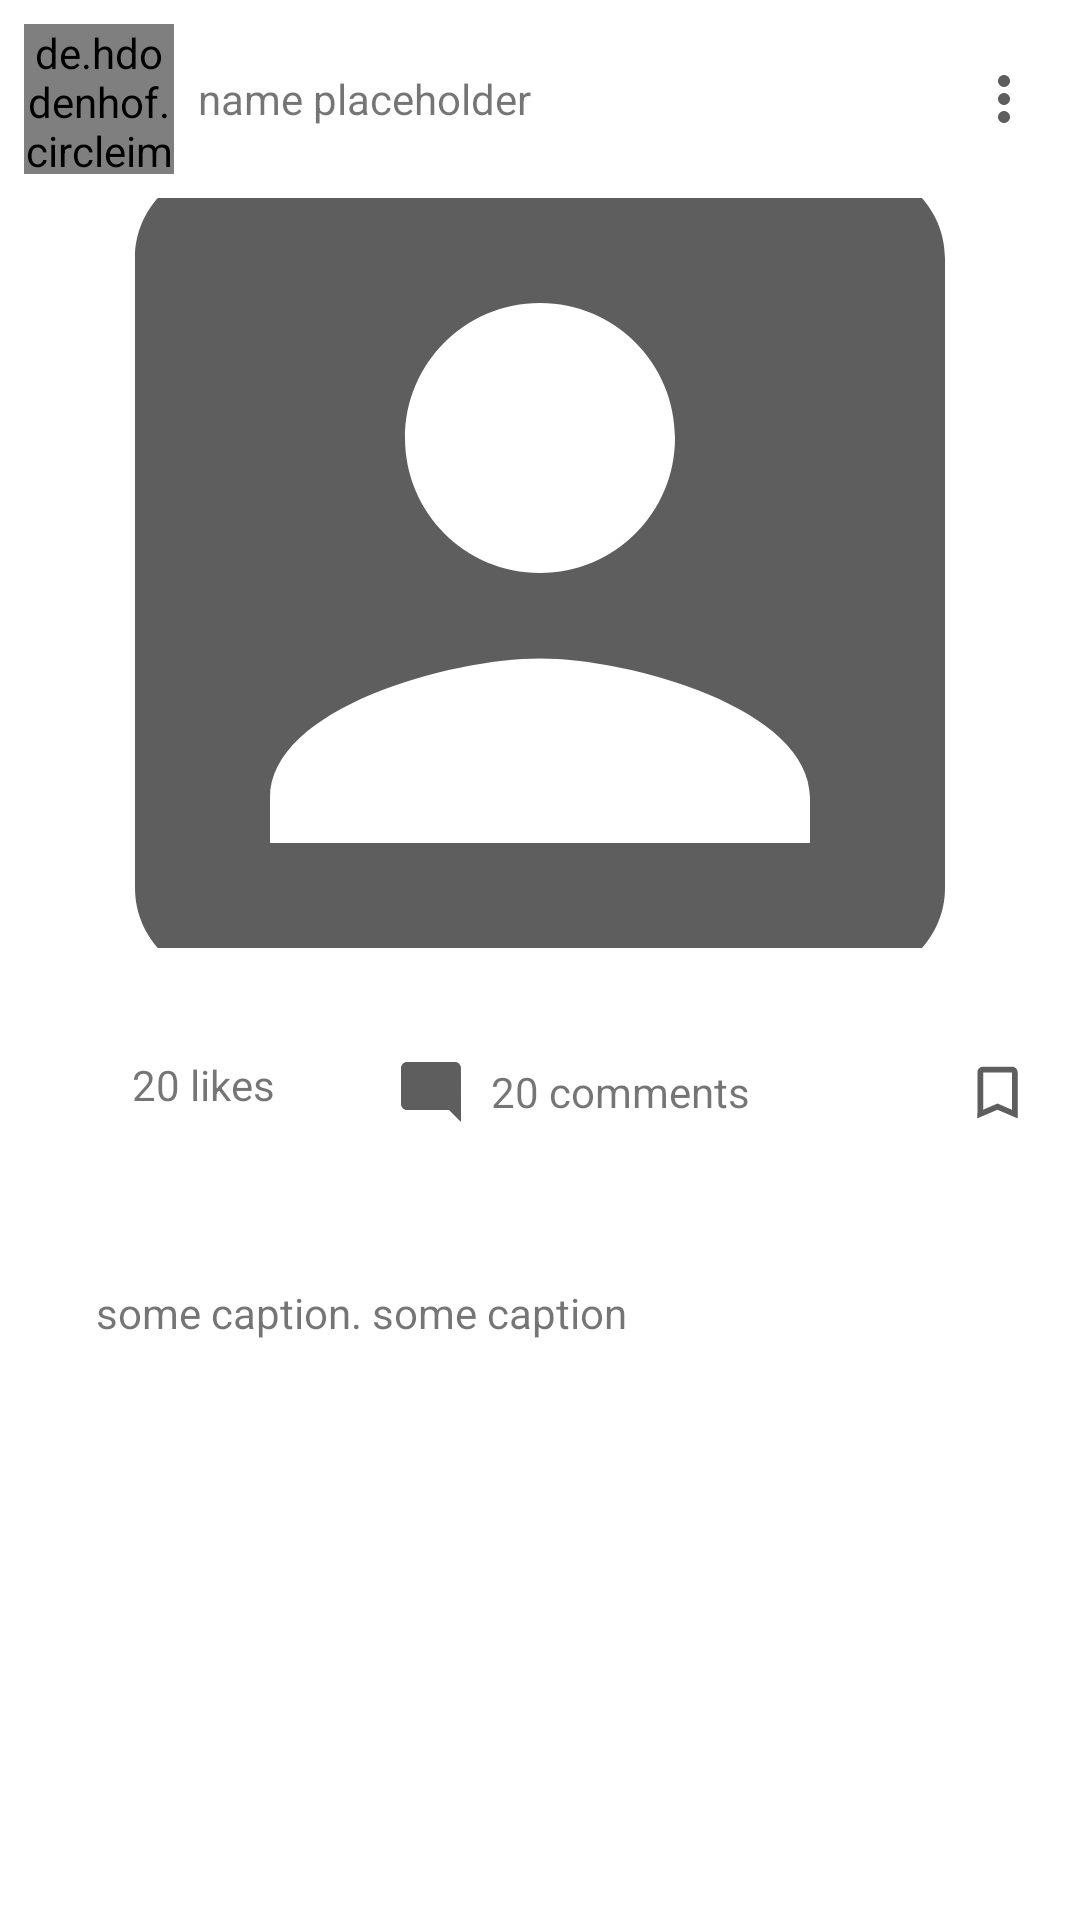

Icons on this 1080×1920 Android screen, each with the point to tap as (x,y):
more: (1004,99)
save post: (997,1092)
